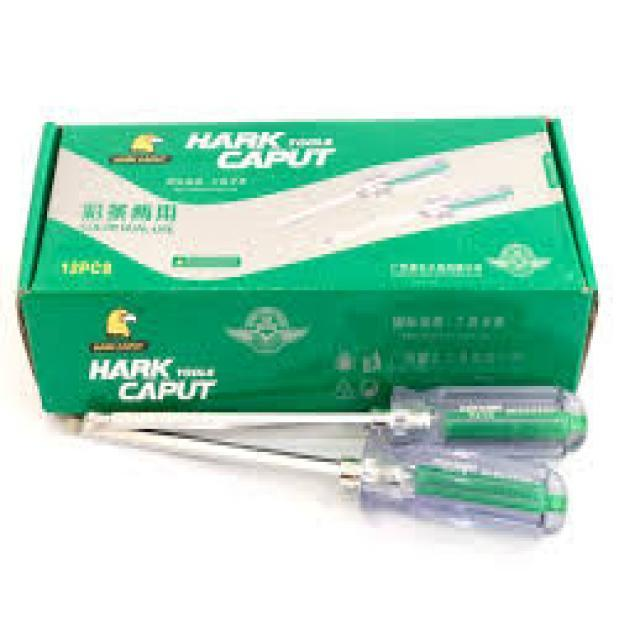screwdriver: (56, 414, 570, 540), (84, 382, 591, 458)
